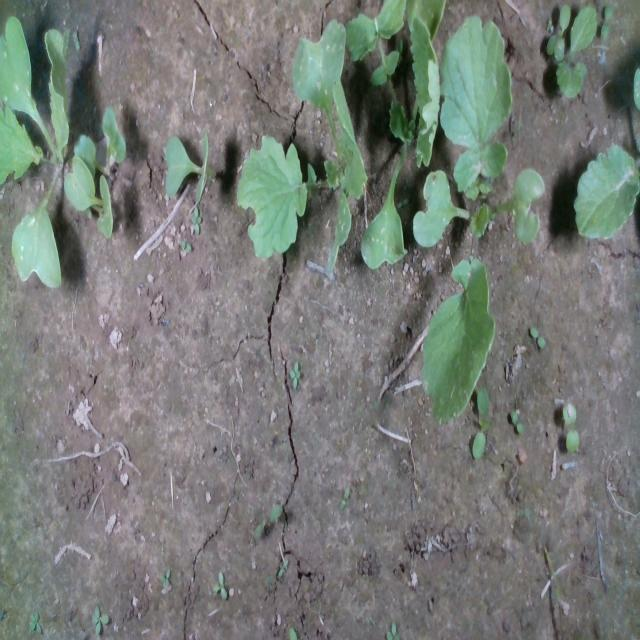weed: (252, 502, 282, 540), (562, 399, 580, 454), (90, 602, 110, 636), (212, 569, 228, 601), (508, 407, 524, 437), (190, 204, 202, 237), (28, 606, 41, 635), (288, 358, 300, 389), (529, 326, 545, 348), (338, 486, 350, 510), (157, 566, 170, 588), (276, 556, 288, 578), (178, 238, 192, 252)
